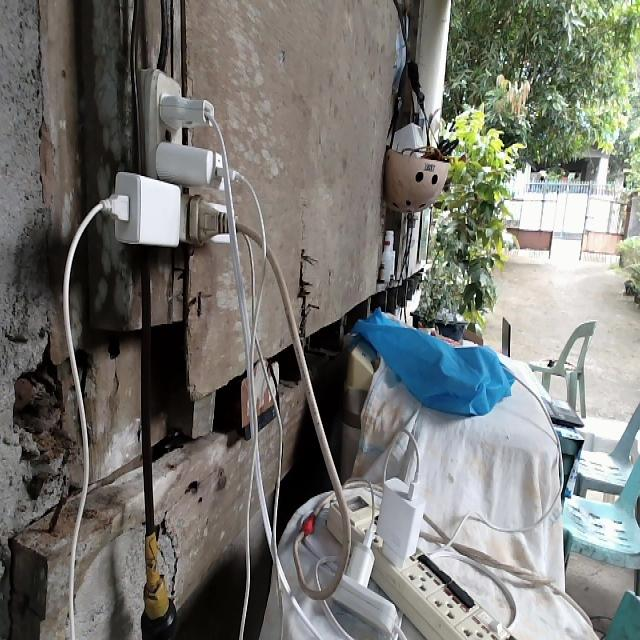-: (95, 66, 240, 246)
